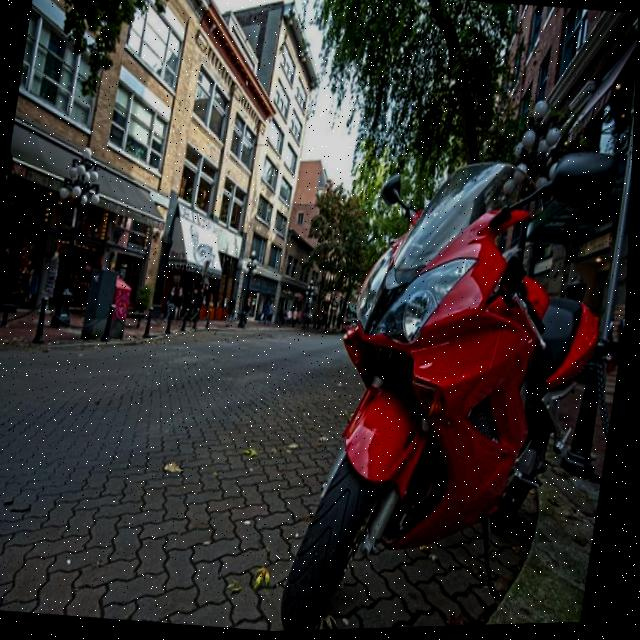motorcycle: (262, 118, 626, 631)
